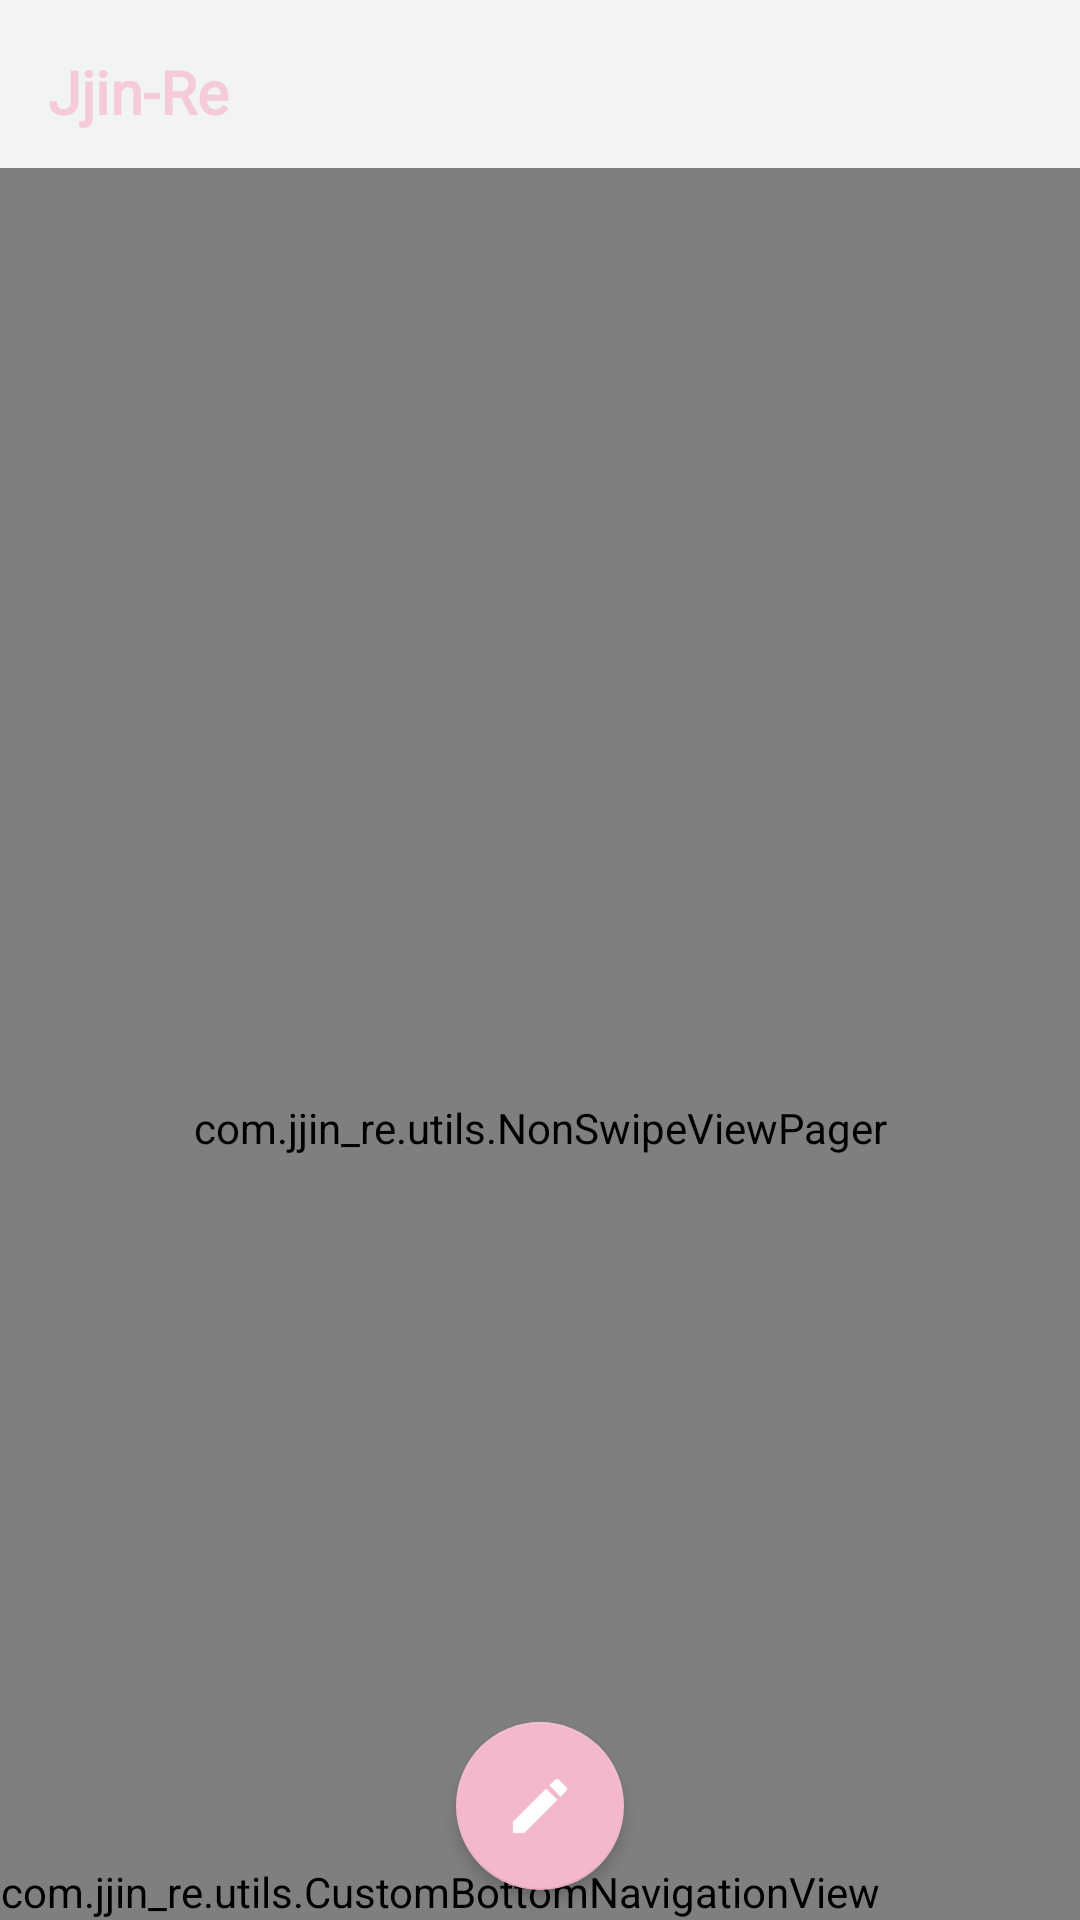

Where to tap for icons on this 1080×1920 app screen, as point (x, y):
pencel: point (540, 1806)
